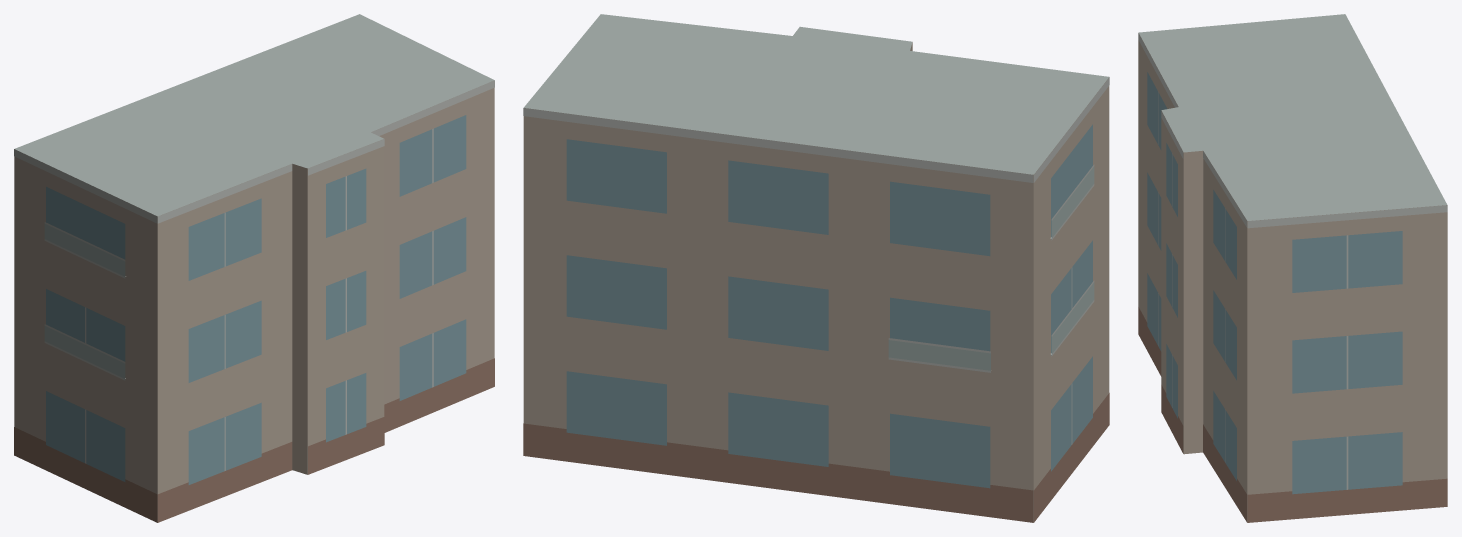
Rendered from survey-upis-32610717.glb.
3 views of the same model, side by side, from view 1: azimuth 30°, elevation 25°; view 2: azimuth 150°, elevation 25°; view 3: azimuth 270°, elevation 25° (orthographic). The views are drawn at different scales.
Parts seen in each view (by area): view 1: survey-upis-32610717.tmp; view 2: survey-upis-32610717.tmp; view 3: survey-upis-32610717.tmp.
Boxes of the visible parts, x1,y1,x2,y2 form: survey-upis-32610717.tmp: (14, 14, 494, 522); survey-upis-32610717.tmp: (523, 14, 1109, 522); survey-upis-32610717.tmp: (1138, 14, 1447, 522).
Bounding box in the file's own units: 15.02 × 10.2 × 9.48.
